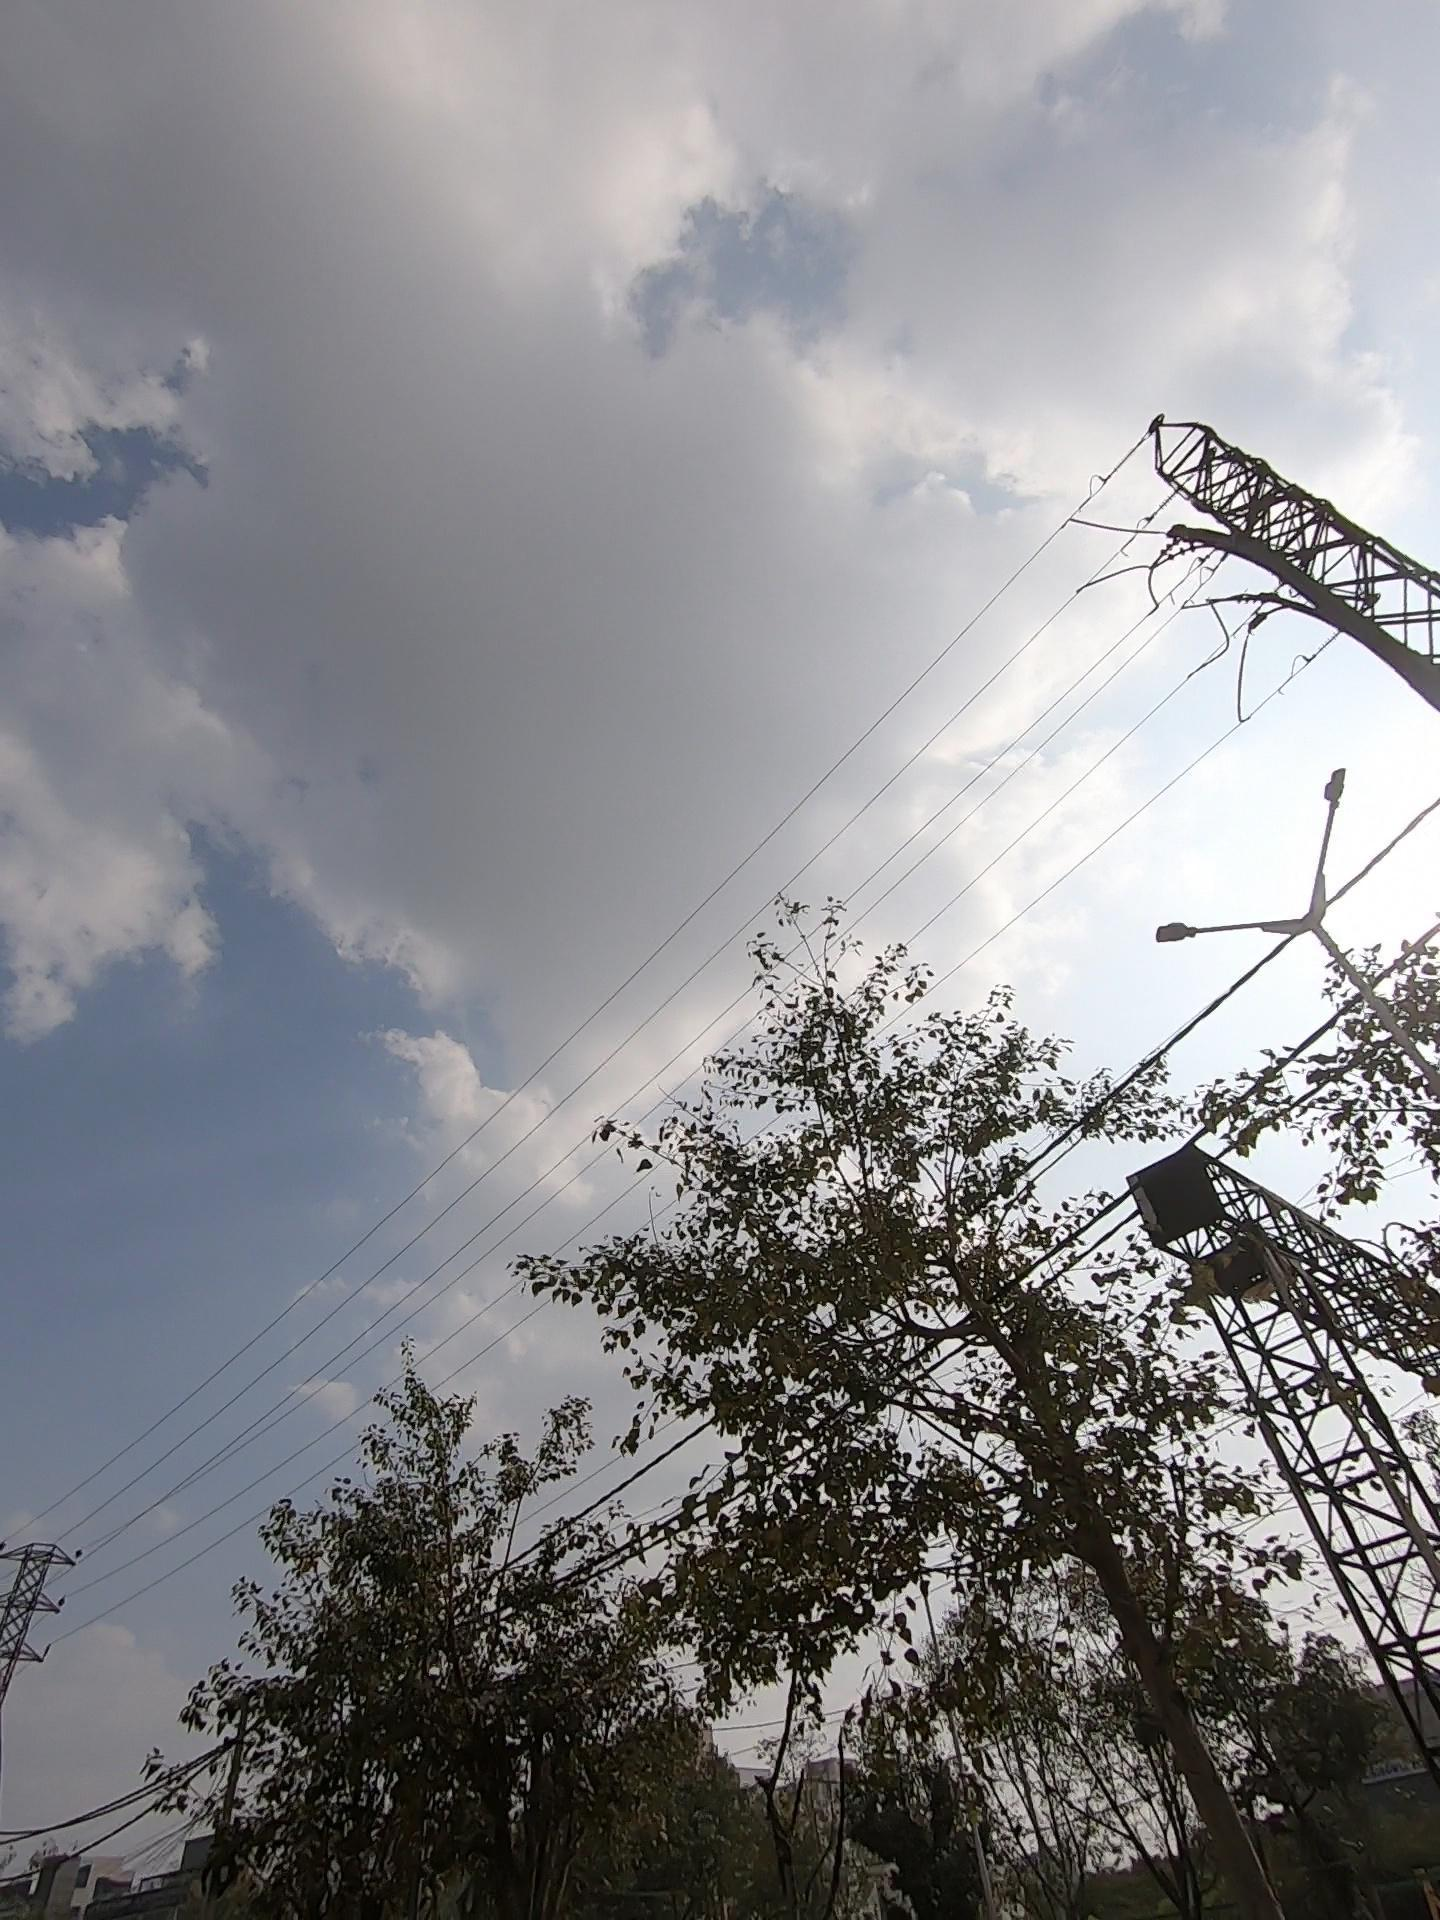off: (1030, 661, 1372, 992)
